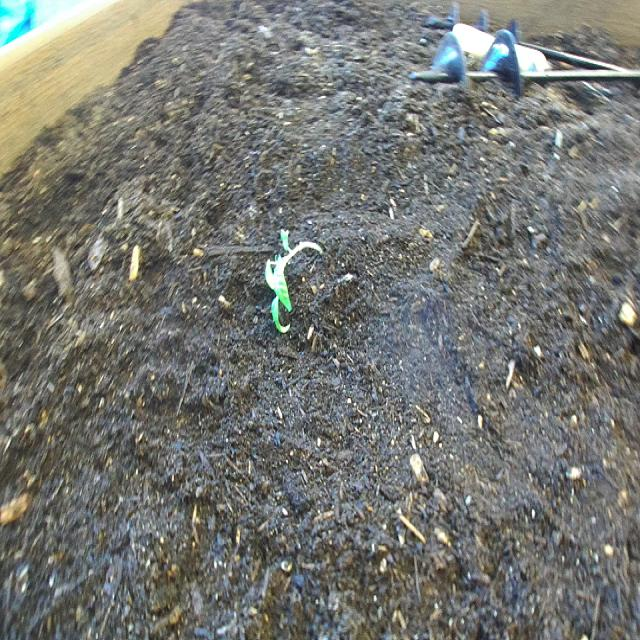Unhealthy: (261, 221, 334, 344)
